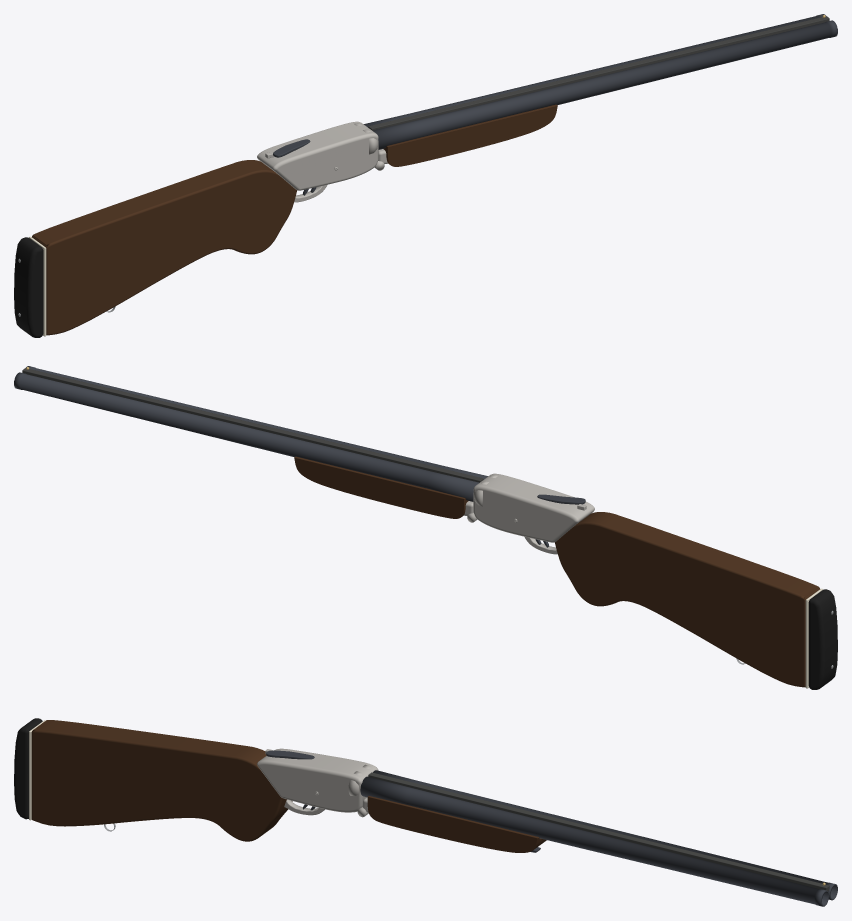
Rendered from shotgun.glb.
The picture shows the model from 3 angles, top to bottom: view 1: azimuth 30°, elevation 25°; view 2: azimuth 150°, elevation 25°; view 3: azimuth 330°, elevation 25°; orthographic projection.
Parts seen in each view (by area): view 1: body-walnut, barrels-blued, body-engraved, barrels-walnut, barrels-parker, body-rubber; view 2: body-walnut, barrels-blued, body-engraved, barrels-walnut, barrels-parker, body-rubber; view 3: body-walnut, barrels-blued, body-engraved, barrels-walnut, barrels-parker, body-rubber.
Part boxes in pixels (x1,y1,x2,y2): body-walnut: [32, 160, 297, 335]; barrels-blued: [363, 14, 837, 149]; body-engraved: [257, 121, 384, 202]; barrels-walnut: [383, 104, 557, 166]; barrels-parker: [368, 16, 829, 130]; body-rubber: [14, 237, 43, 337]; body-walnut: [554, 512, 819, 687]; barrels-blued: [14, 366, 488, 501]; body-engraved: [467, 473, 594, 554]; barrels-walnut: [294, 456, 468, 518]; barrels-parker: [22, 368, 483, 482]; body-rubber: [808, 589, 837, 689]; body-walnut: [31, 720, 292, 841]; barrels-blued: [360, 770, 837, 906]; body-engraved: [257, 748, 378, 817]; barrels-walnut: [367, 796, 546, 852]; barrels-parker: [368, 772, 829, 891]; body-rubber: [14, 718, 42, 819].
Size of the model in its own units: 1.25 by 0.1855 by 0.0591.
